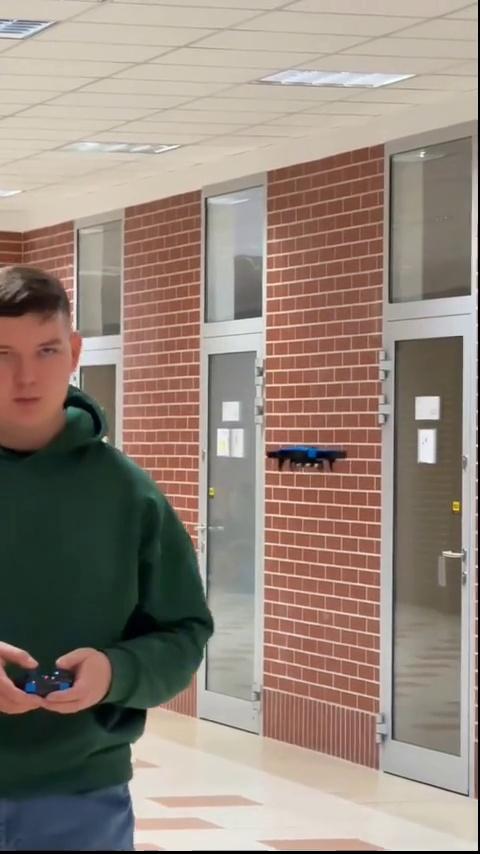drone: (271, 447, 345, 473)
no vest: (0, 257, 218, 848)
